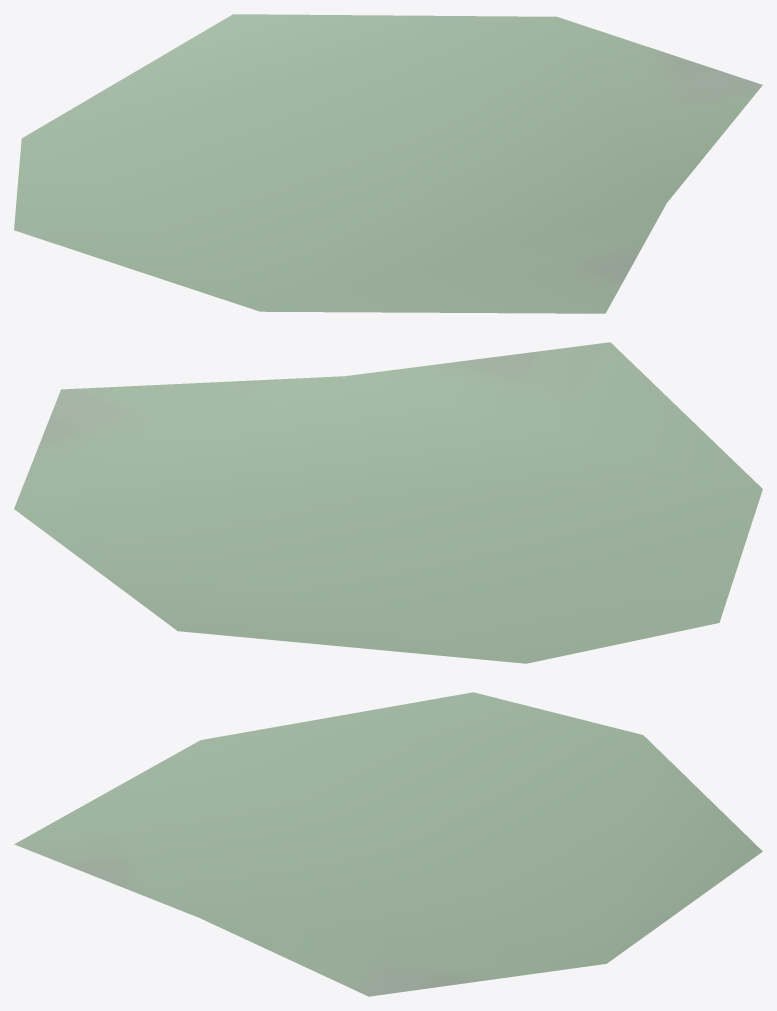
The model's file is TROLLHOLE02_HOLECAP71.fbx.
3 renders of one model, top to bottom at view 1: azimuth 30°, elevation 25°; view 2: azimuth 150°, elevation 25°; view 3: azimuth 270°, elevation 25°, orthographic. The views are drawn at different scales.
Visible parts, largest first — view 1: TROLLHOLE02_HOLECAP71; view 2: TROLLHOLE02_HOLECAP71; view 3: TROLLHOLE02_HOLECAP71.
Part boxes in pixels (<box>): TROLLHOLE02_HOLECAP71: <box>14,14,762,313</box>; TROLLHOLE02_HOLECAP71: <box>14,342,762,663</box>; TROLLHOLE02_HOLECAP71: <box>14,692,762,996</box>.
Size of the model in its own units: 19463 by 466 by 19244.
1 material, 1 textured.
